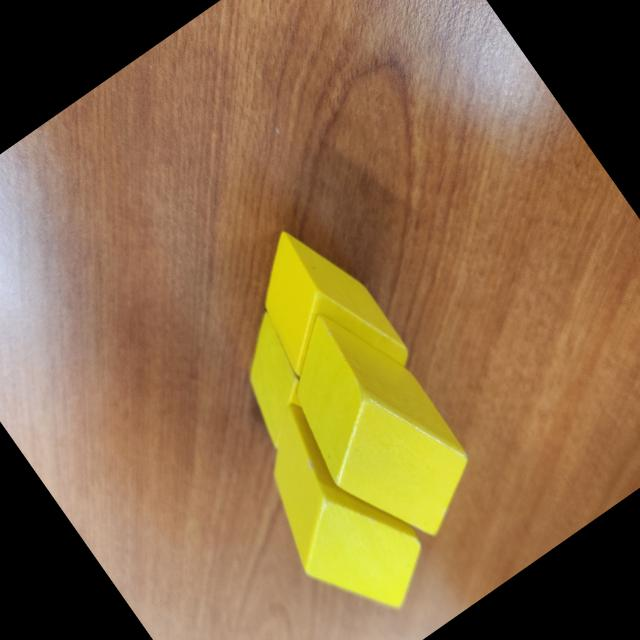yellow: (248, 286, 498, 566), (219, 384, 448, 640), (223, 208, 418, 421), (208, 311, 336, 451)
